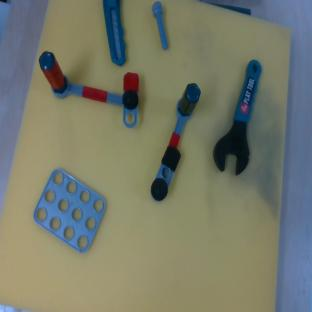non_pass: (147, 79, 202, 203)
pass: (29, 50, 148, 128)
